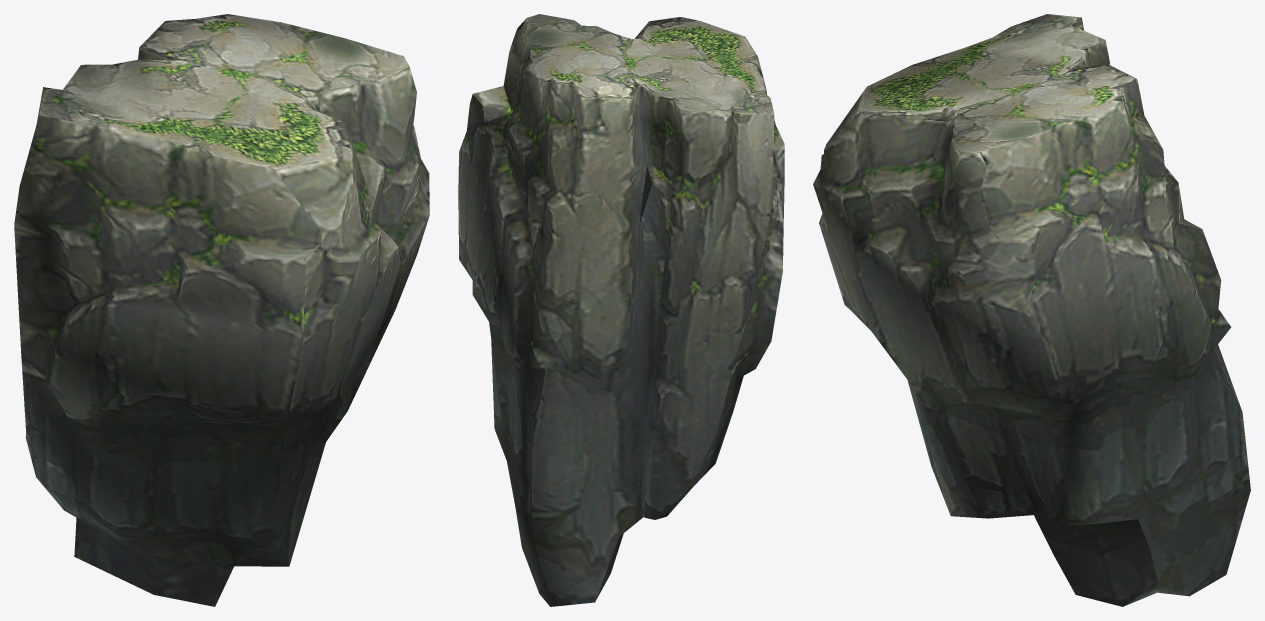
File: 4006_Item_shitou_7.FBX
3 renders of one model, left to right at view 1: azimuth 30°, elevation 25°; view 2: azimuth 150°, elevation 25°; view 3: azimuth 270°, elevation 25°, orthographic. The views are drawn at different scales.
Parts seen in each view (by area): view 1: 4006_Item_shitou_7; view 2: 4006_Item_shitou_7; view 3: 4006_Item_shitou_7.
Boxes of the visible parts, box(x1,y1,x2,y2) form: 4006_Item_shitou_7: box(14, 14, 429, 606); 4006_Item_shitou_7: box(458, 14, 784, 606); 4006_Item_shitou_7: box(813, 14, 1250, 606).
Bounding box in the file's own units: 796 × 863 × 1127.
